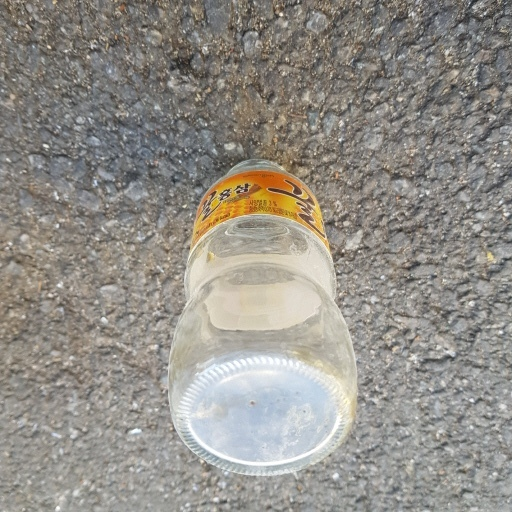Glass_4: (165, 156, 355, 475)
